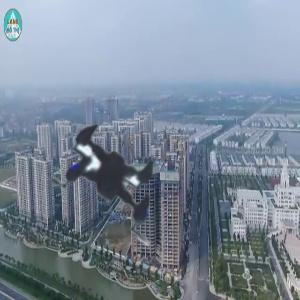drone: (5, 71, 217, 283)
